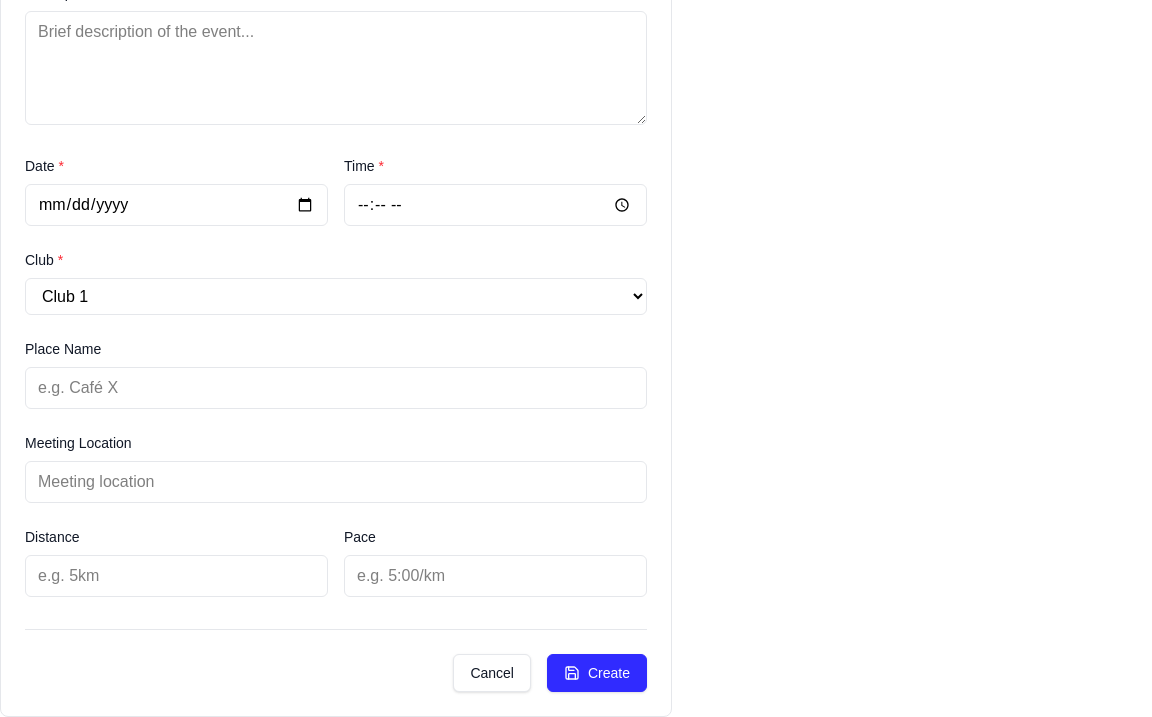
Test: EventForm › Create Mode › shows validation errors for required fields
(page scrolled)
Click the button "Create" at (597, 673), box [547,654,647,692]
(page scrolled)
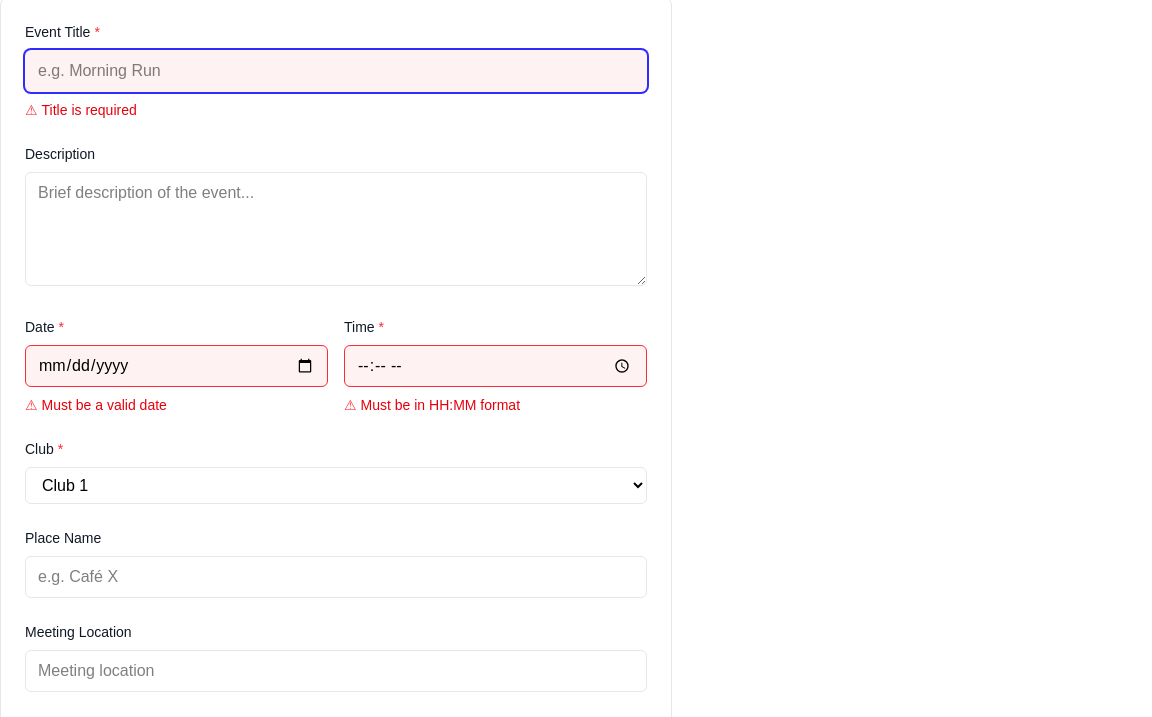
Check: the text "⚠ Title is required" is shown, box [25,102,137,118]
